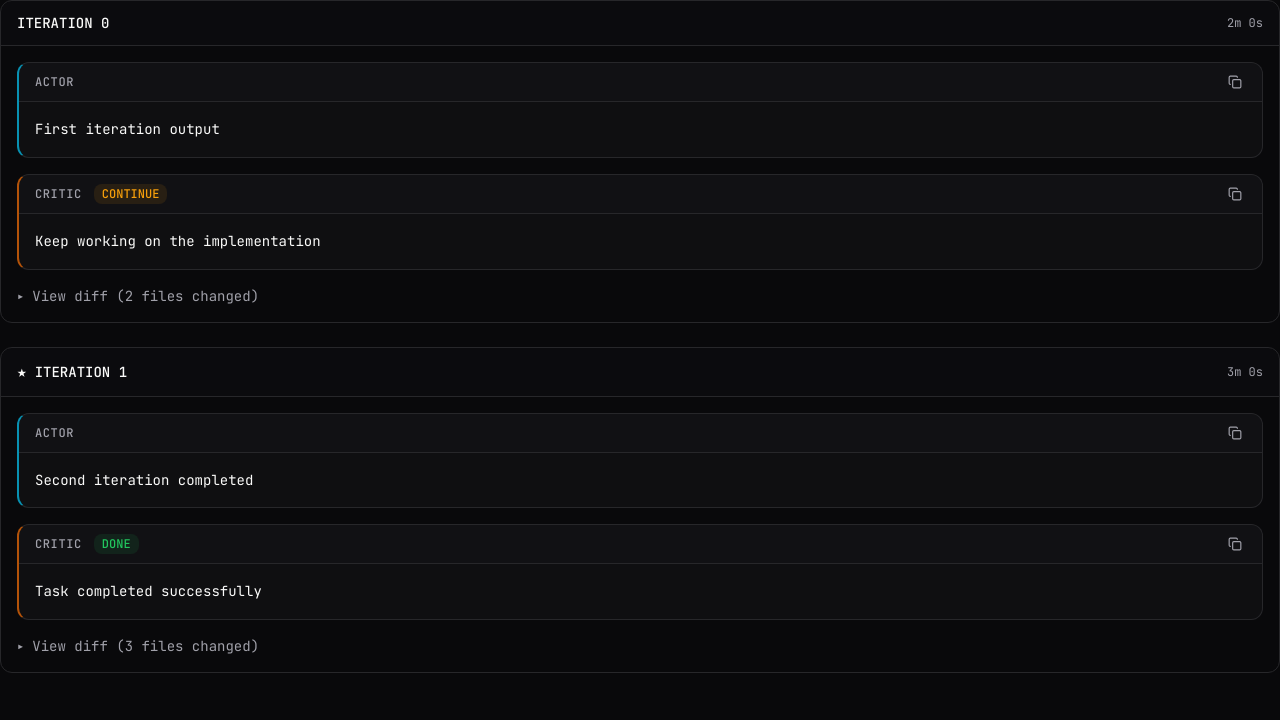
Test: IterationConversation › diff expansion › should collapse diff when clicked again
What coordinates should you click on to do the following:
click the text "View diff (2 files changed)"
I would click on:
 (146, 296)
Its box is top-left (32, 286), bottom-right (259, 306).
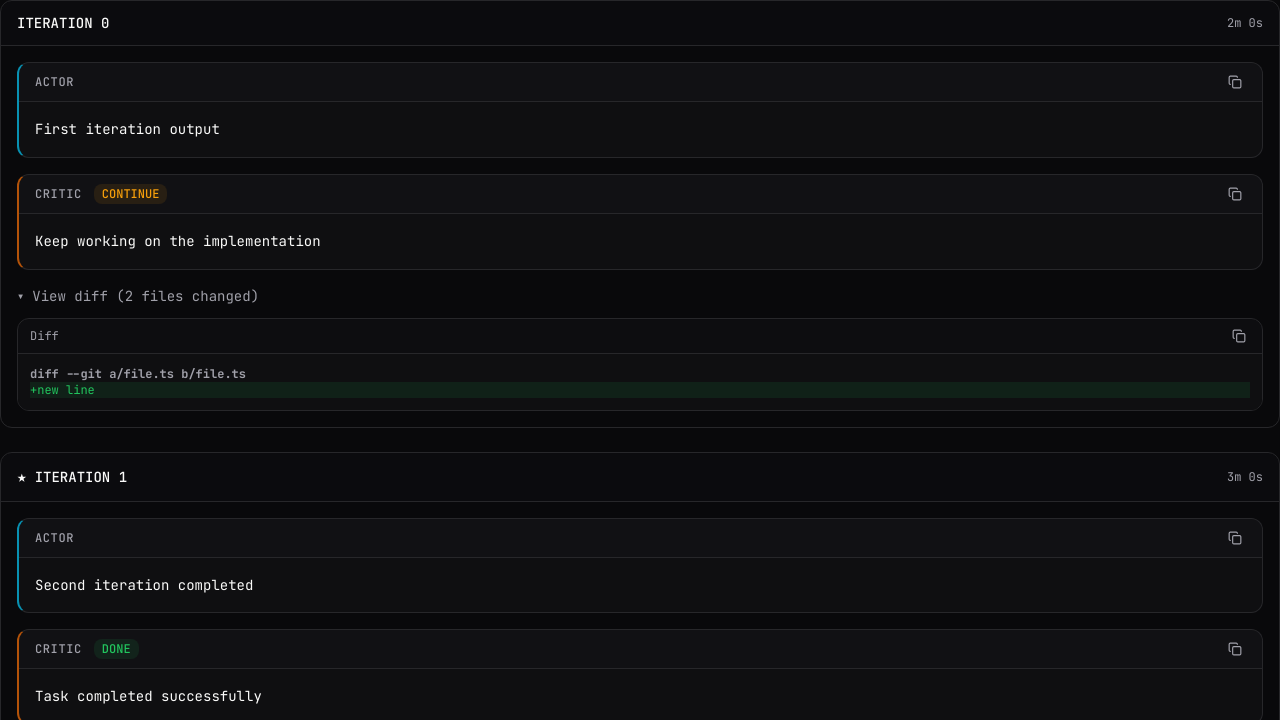
expect the text "+new line" is shown: met, box top-left (30, 382), bottom-right (1250, 398)
Note: Find the collapse button (arrow changed)
What coordinates should you click on to do the following:
click the text "View diff (2 files changed)"
I would click on:
 (146, 296)
Its box is top-left (32, 286), bottom-right (259, 306).
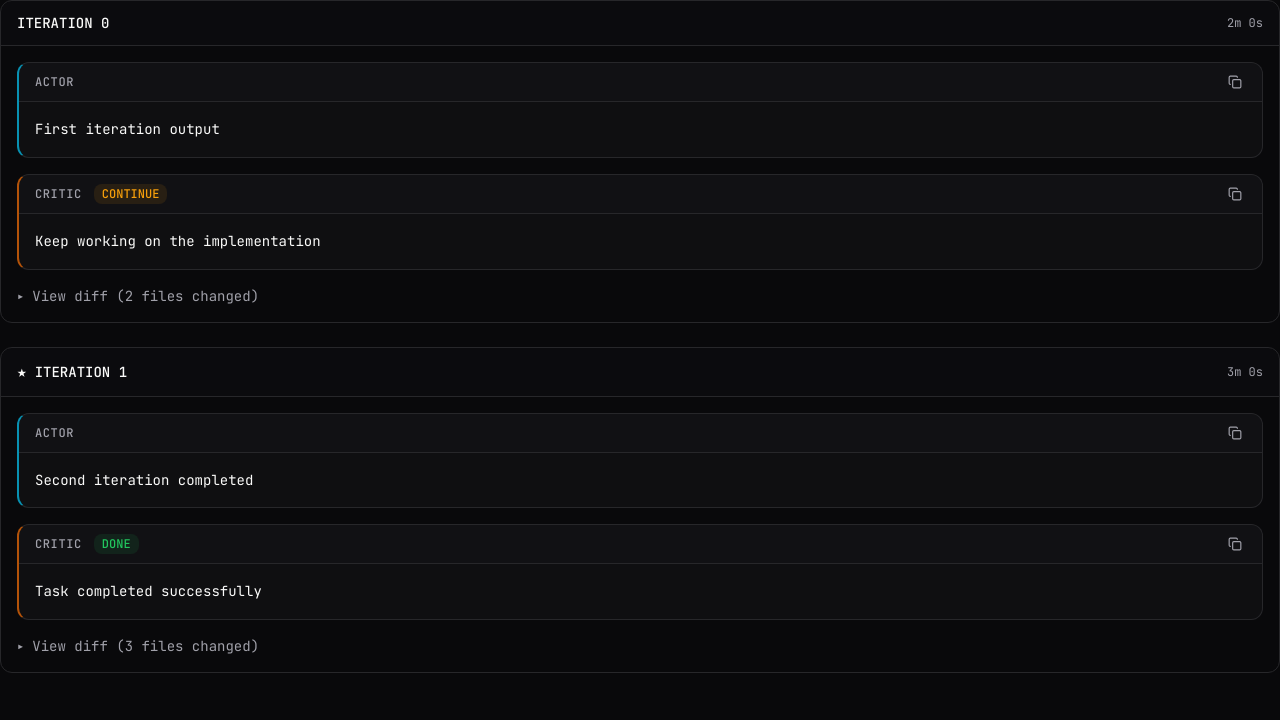
expect the text "+new line" is gone: met
